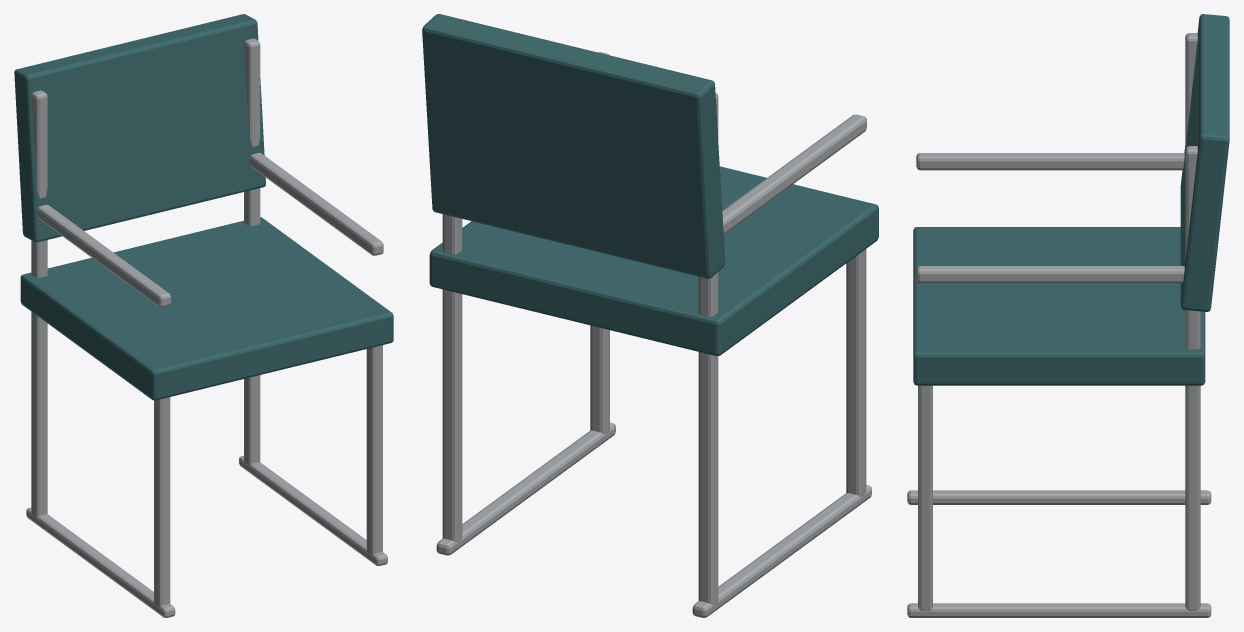
The model's file is PROP_Chair_Visitor.glb.
3 views of the same model, side by side, from view 1: azimuth 30°, elevation 25°; view 2: azimuth 150°, elevation 25°; view 3: azimuth 270°, elevation 25° (orthographic). The views are drawn at different scales.
Visible parts, largest first — view 1: PROP_Chair_Visitor_Mesh; view 2: PROP_Chair_Visitor_Mesh; view 3: PROP_Chair_Visitor_Mesh.
Boxes of the visible parts, x1,y1,x2,y2 form: PROP_Chair_Visitor_Mesh: [14, 14, 393, 617]; PROP_Chair_Visitor_Mesh: [422, 14, 878, 617]; PROP_Chair_Visitor_Mesh: [907, 14, 1229, 617].
Size of what is drawn, in the model's own units: 0.5 by 0.8811 by 0.5302.
